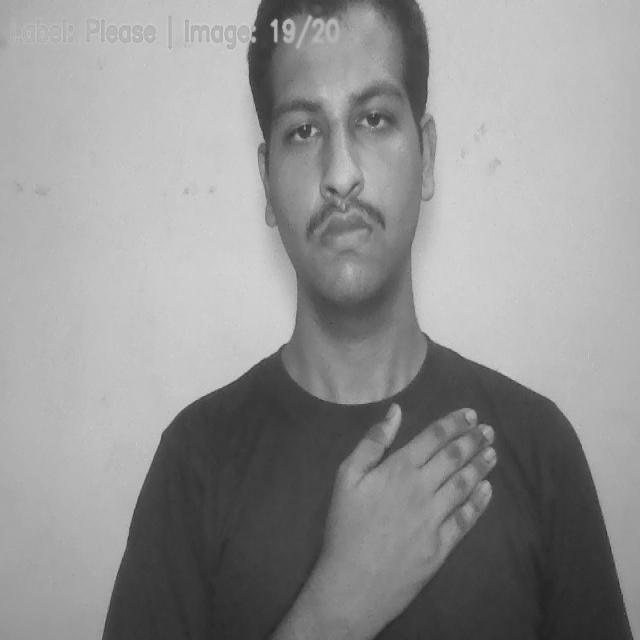Please: (314, 396, 494, 600)
